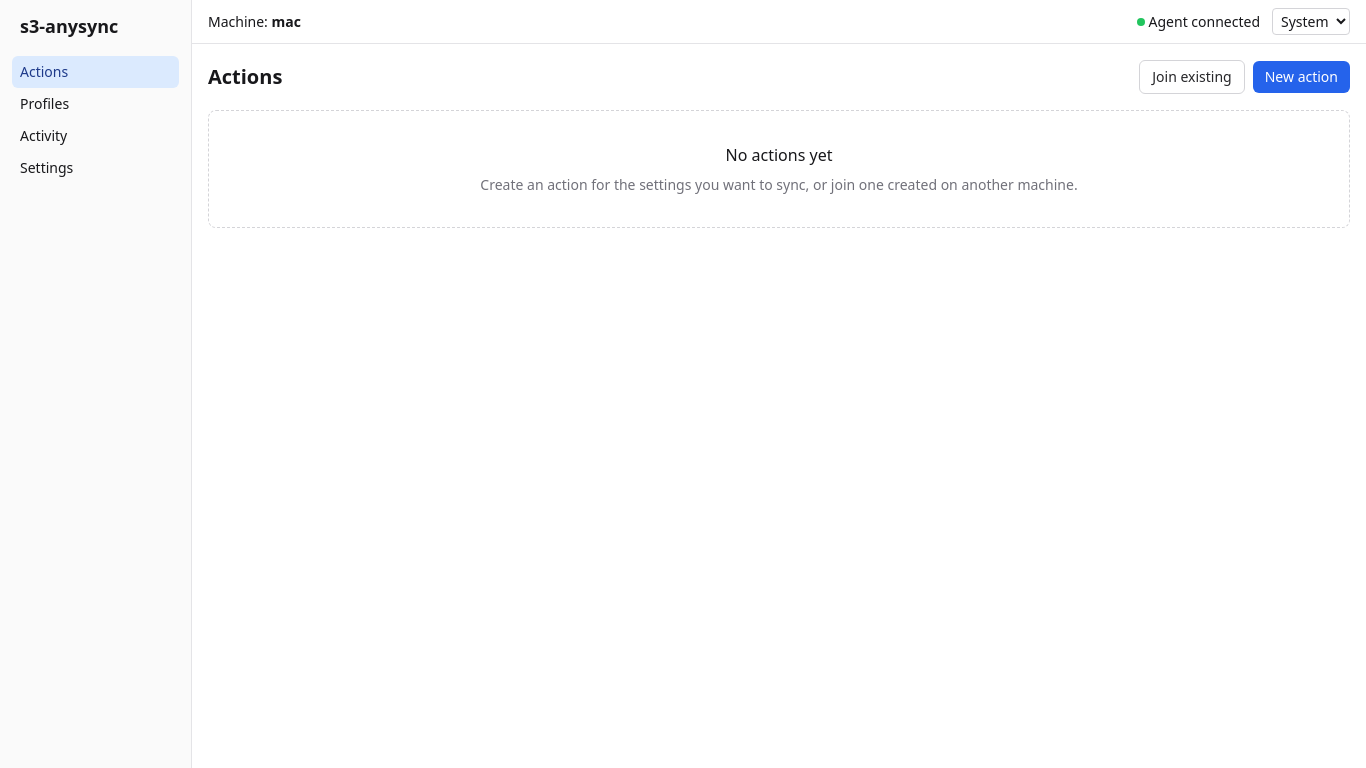
a stale probe result does not reopen a closed Test dialog
What coordinates should you click on to do the following:
click the button "Profiles"
I would click on:
 (96, 104)
Its box is x1=12 y1=88 x2=179 y2=120.
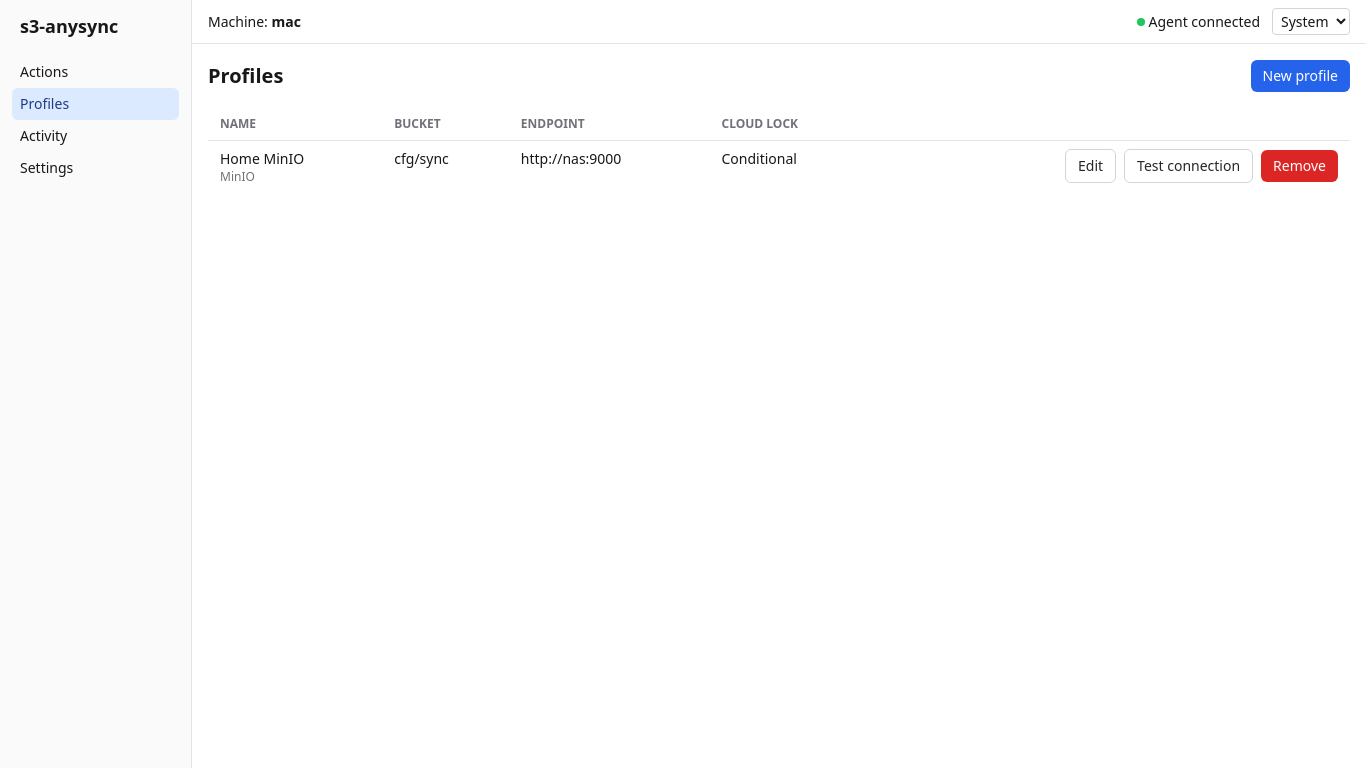
What coordinates should you click on to do the following:
click the button with aria-label "Test connection Home MinIO"
I would click on:
 (1189, 166)
Its box is x1=1124 y1=149 x2=1253 y2=183.
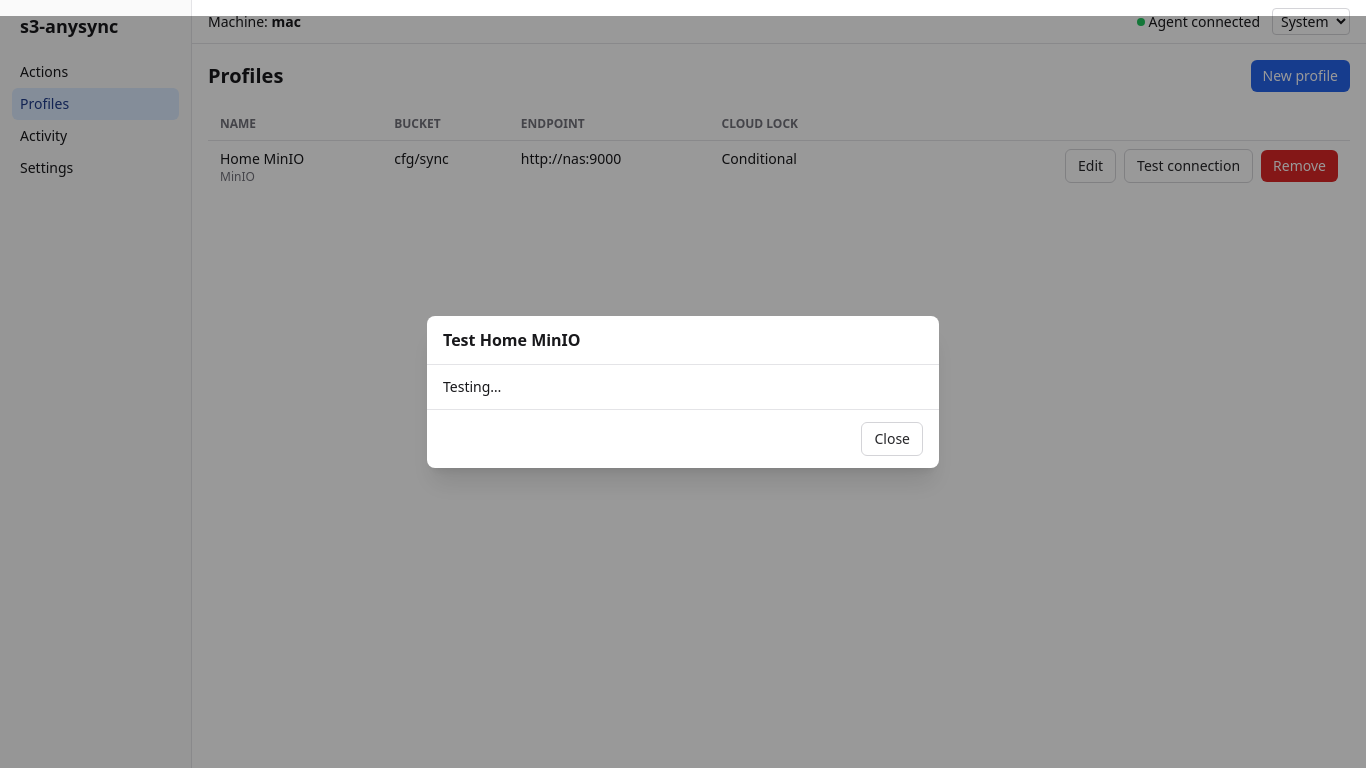
What coordinates should you click on to do the following:
click the button "Close"
I would click on:
 (892, 439)
Its box is x1=862 y1=422 x2=923 y2=456.
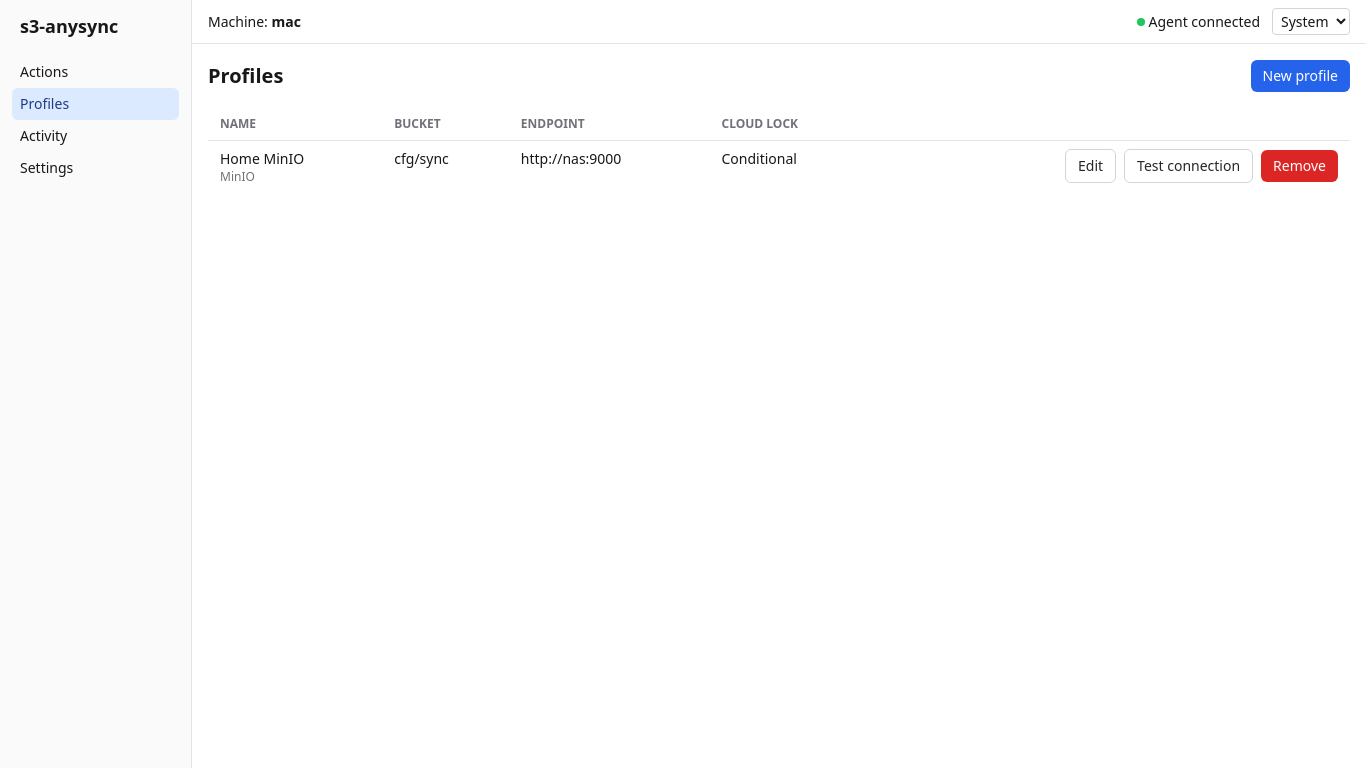
Expected: the dialog is gone
